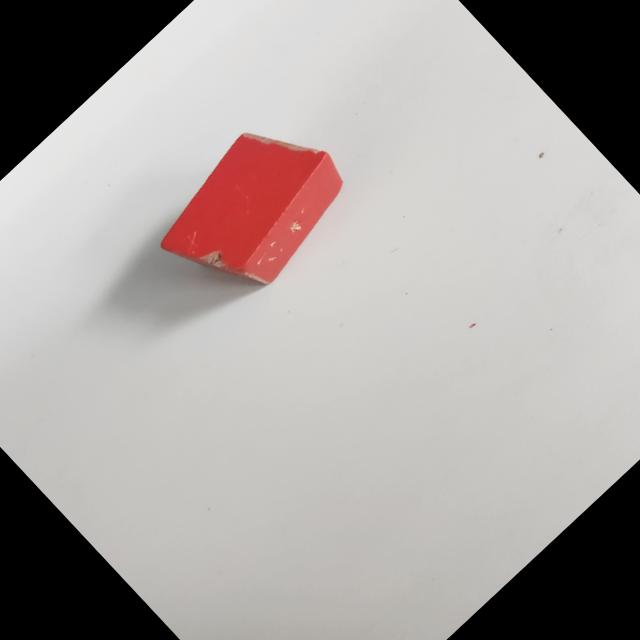broken: (144, 100, 366, 319)
